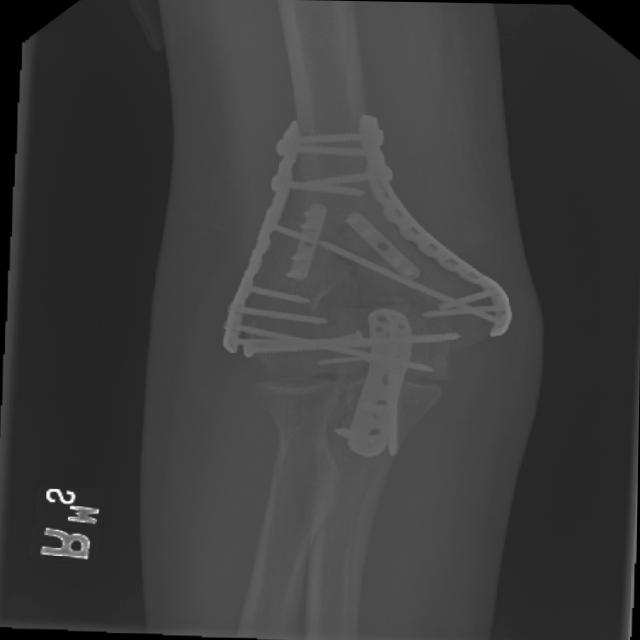elbow positive: (305, 194, 428, 341)
